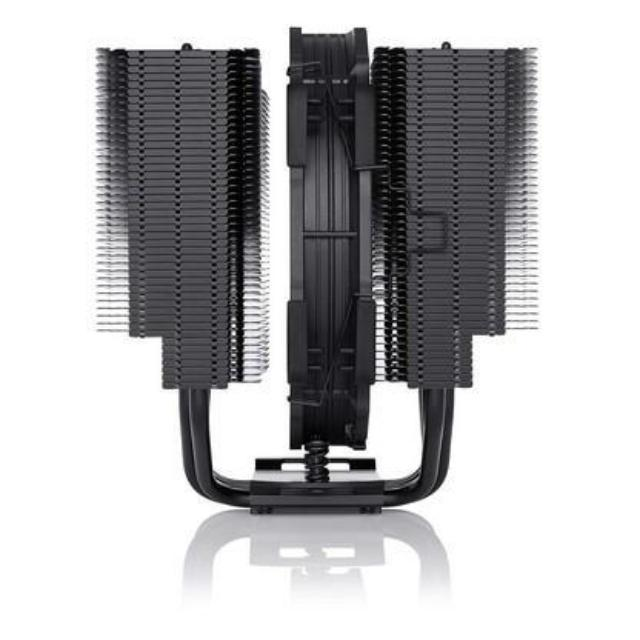CPU_Fan: (76, 33, 564, 513)
